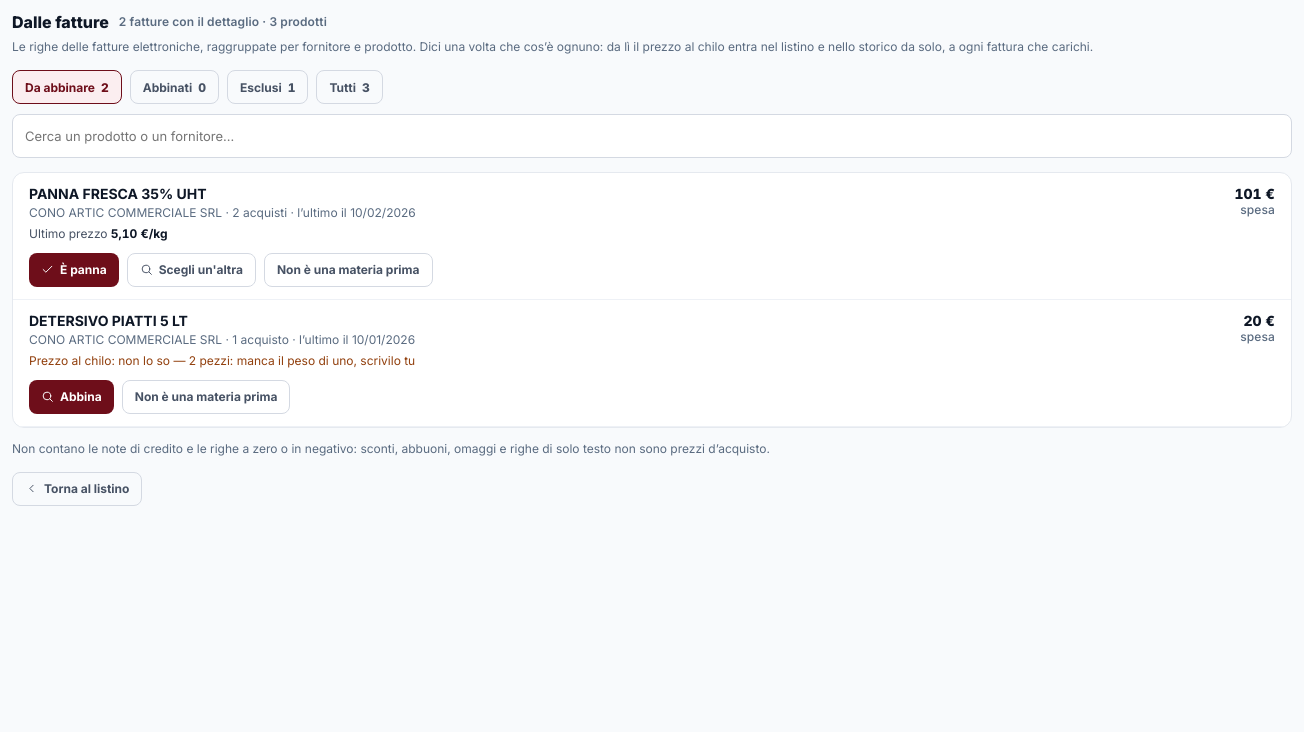
Abbinare scrive mappa, listino e storico insieme › «Non è una materia prima» scrive solo la mappa
This screenshot has width=1304, height=732.
Click the button "Non è una materia prima" below "Prezzo al chilo: non lo so —".
click(206, 397)  # box [122,380,290,414]
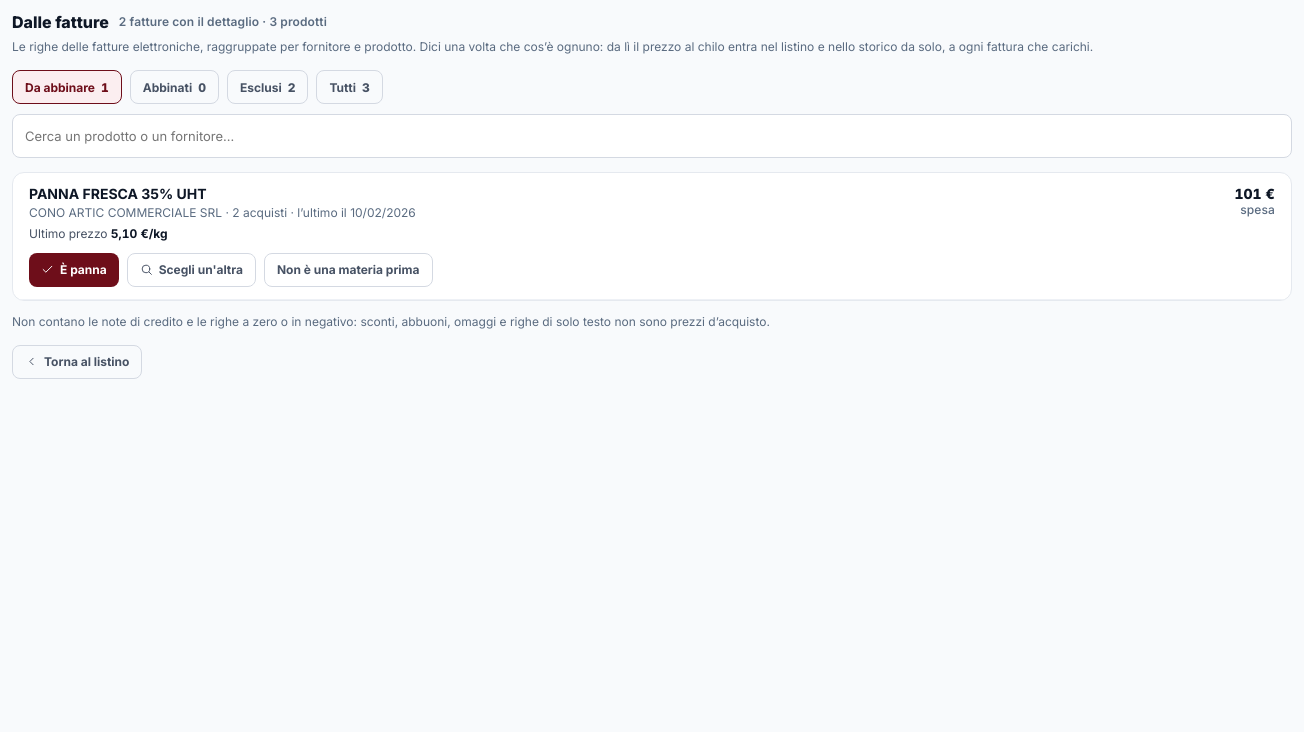
Now the text "Esclusi 2" is shown, box [227,70,308,104]
